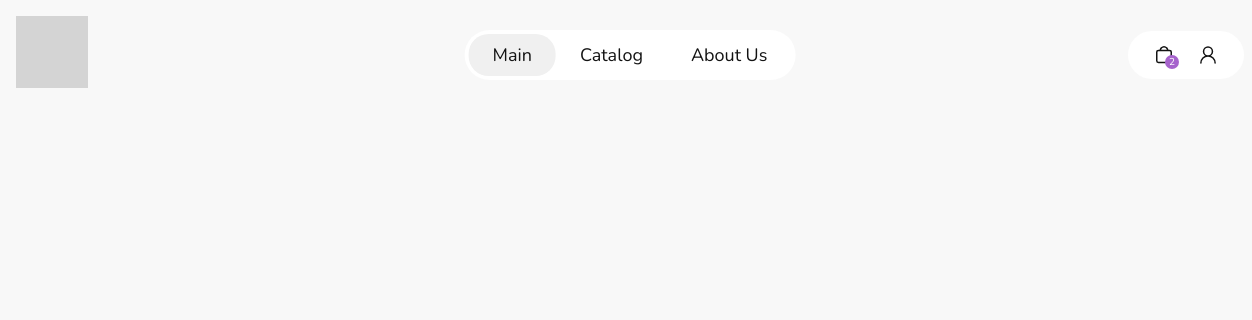
Scenario: Header component › shows profile dropdown when profile button is clicked
The width and height of the screenshot is (1252, 320).
What coordinates should you click on to do the following:
click the button named "profile menu"
I would click on:
 (1208, 55)
Its box is x1=1196 y1=43 x2=1220 y2=67.
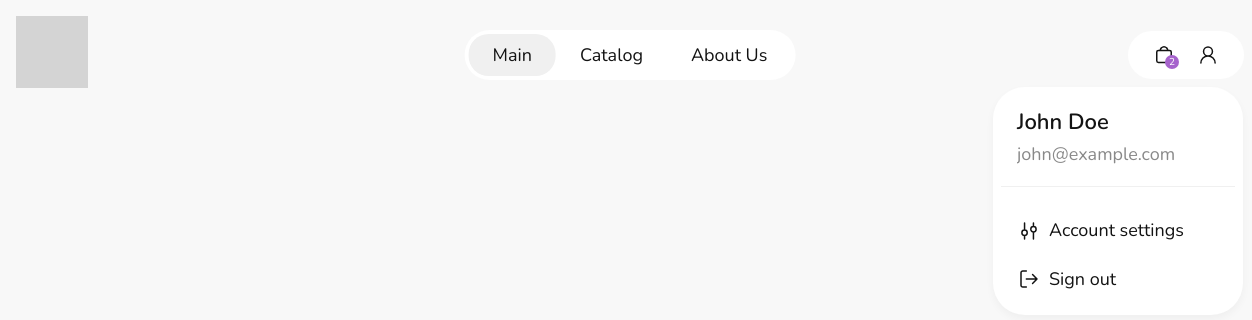
Expected: the text "John Doe" is shown, x1=1017 y1=107 x2=1109 y2=137
Expected: the text "john@example.com" is shown, x1=1017 y1=142 x2=1175 y2=166
Expected: the link "Account settings" is shown, x1=1017 y1=218 x2=1184 y2=243
